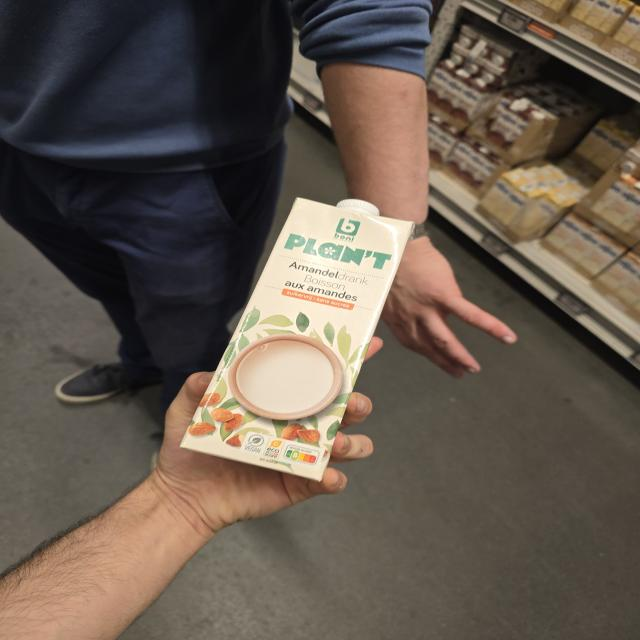Milk: (178, 197, 415, 481)
